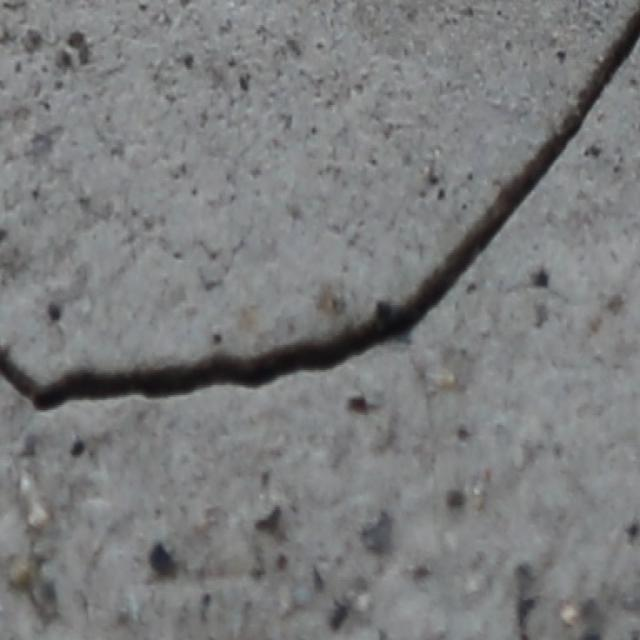crack: (0, 8, 639, 422)
